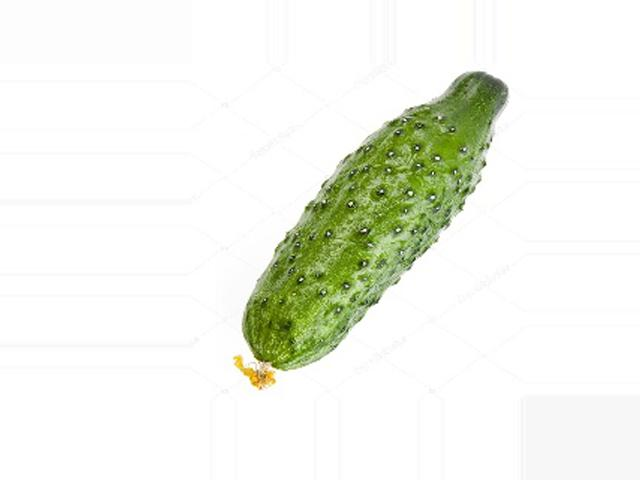cucumber: (234, 73, 509, 389)
